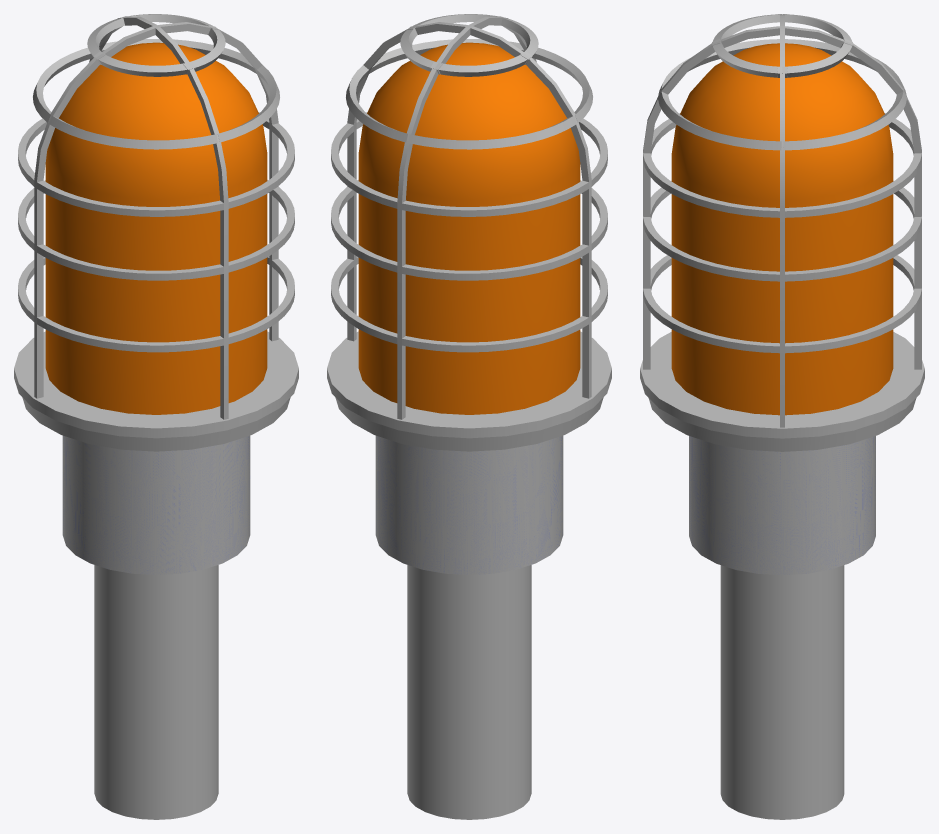
The model's file is decklamp.fbx.
3 renders of one model, left to right at view 1: azimuth 30°, elevation 25°; view 2: azimuth 150°, elevation 25°; view 3: azimuth 270°, elevation 25°, orthographic.
Parts seen in each view (by area): view 1: Group1, Group2, Component_1_2, Component_1_3, Component_1_4, Component_1_1; view 2: Group1, Group2, Component_1_1, Component_1_4, Component_1_2, Component_1_3; view 3: Group1, Group2, Component_1_3, Component_1_4, Component_1_1, Component_1_2.
Boxes of the visible parts, box(x1,y1,x2,y2) form: Group1: box(14, 331, 298, 819); Group2: box(45, 42, 267, 414); Component_1_2: box(34, 26, 223, 398); Component_1_3: box(155, 25, 294, 419); Component_1_4: box(101, 14, 278, 341); Component_1_1: box(18, 16, 157, 321); Group1: box(327, 331, 611, 819); Group2: box(358, 42, 580, 414); Component_1_1: box(397, 26, 588, 419); Component_1_4: box(331, 22, 468, 343); Component_1_2: box(470, 16, 607, 398); Component_1_3: box(356, 14, 536, 264); Group1: box(640, 332, 924, 819); Group2: box(671, 43, 893, 415); Component_1_3: box(643, 26, 787, 369); Component_1_4: box(777, 27, 921, 427); Component_1_1: box(777, 14, 921, 369); Component_1_2: box(650, 14, 787, 290).
Size of the model in its own units: 13.5 by 40.09 by 13.5.
